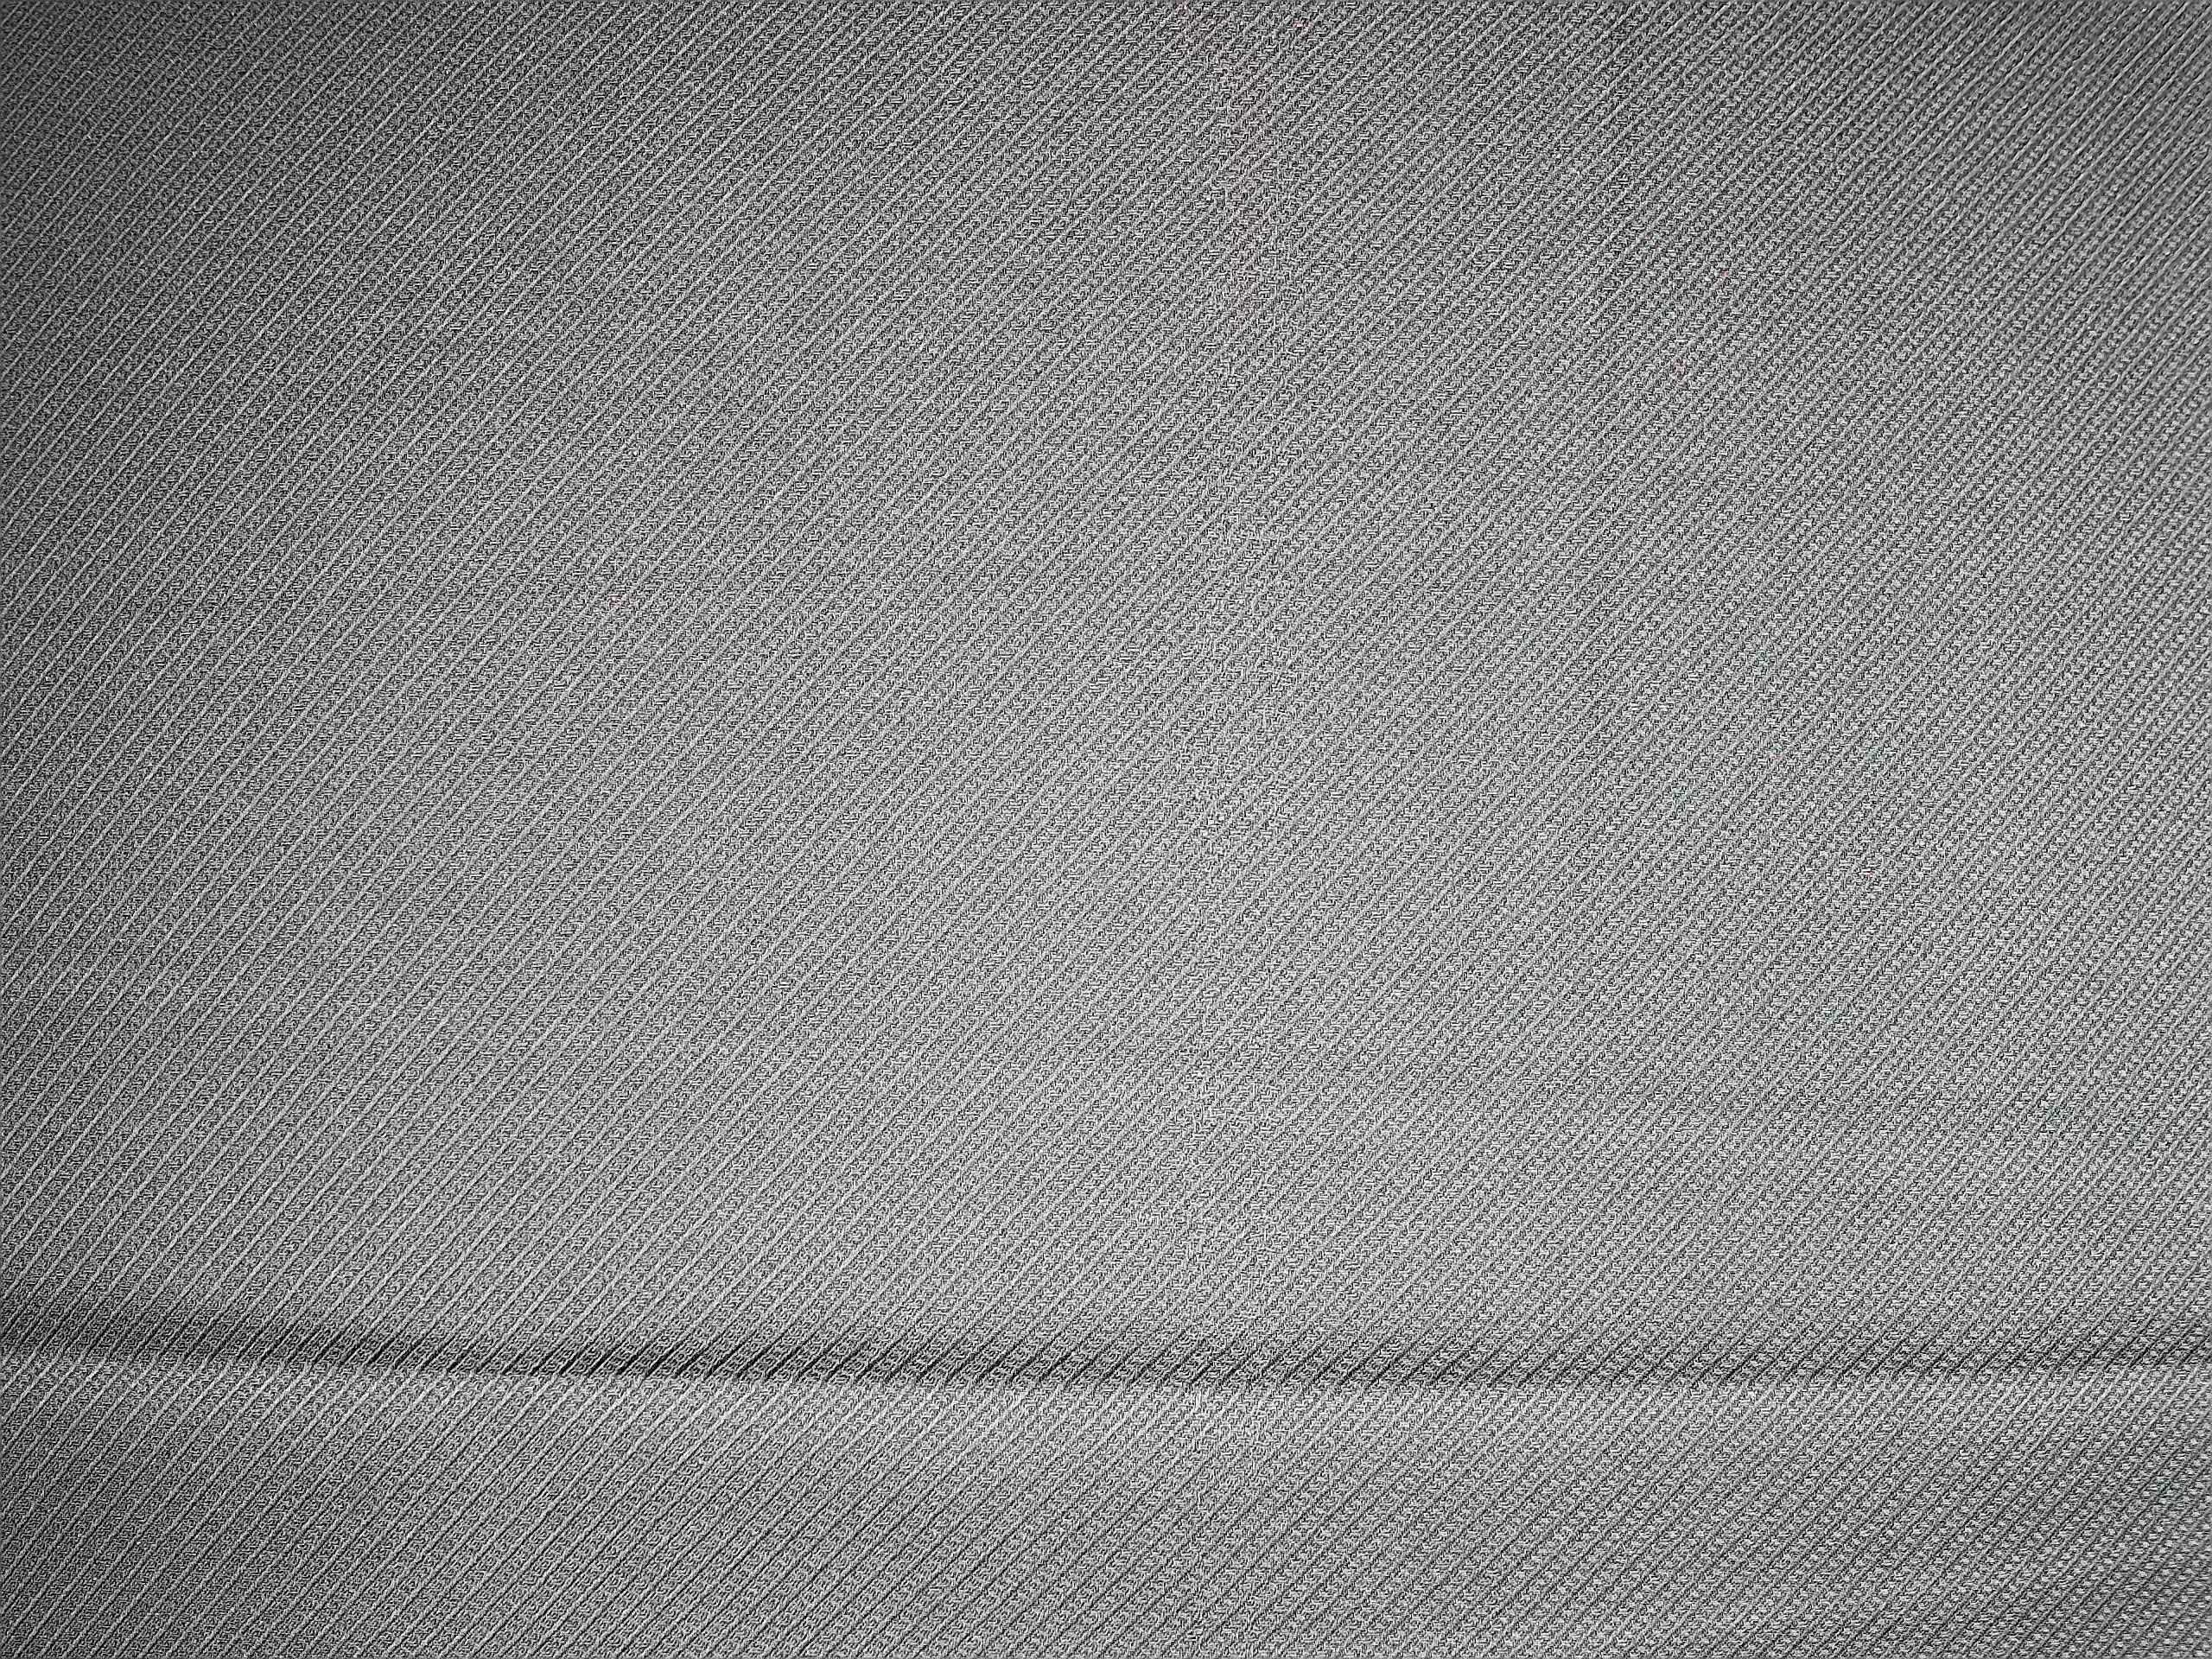jumps: (1170, 30, 1355, 1633)
